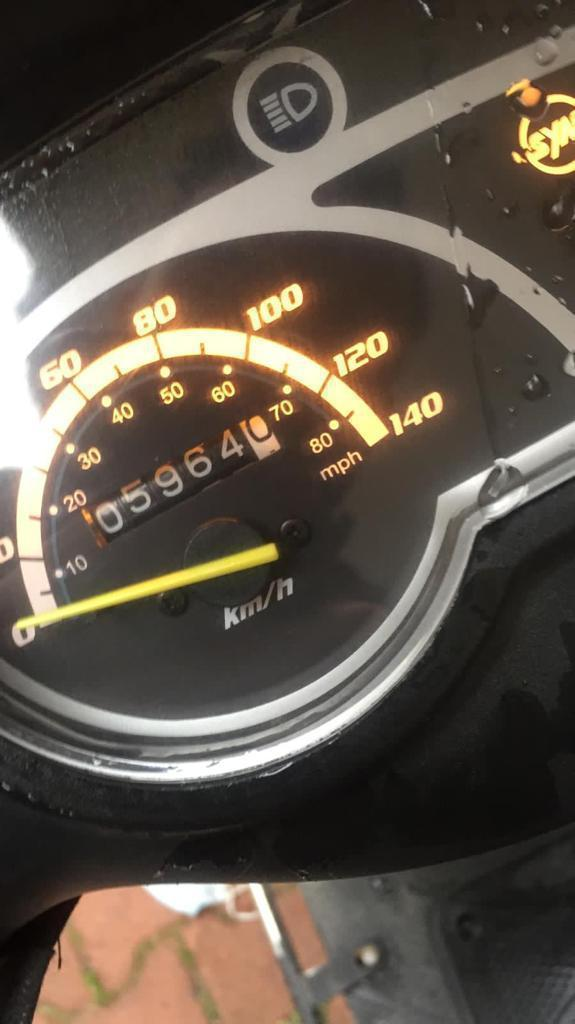0: (94, 501, 124, 534), (245, 413, 272, 443), (87, 446, 102, 464), (74, 488, 88, 506)
3: (77, 452, 91, 471)
4: (217, 427, 246, 461), (111, 406, 126, 426)
5: (116, 478, 153, 514)
6: (183, 446, 214, 477)
7: (268, 405, 283, 423)
9: (150, 463, 185, 497)
odometer: (74, 411, 284, 551)
